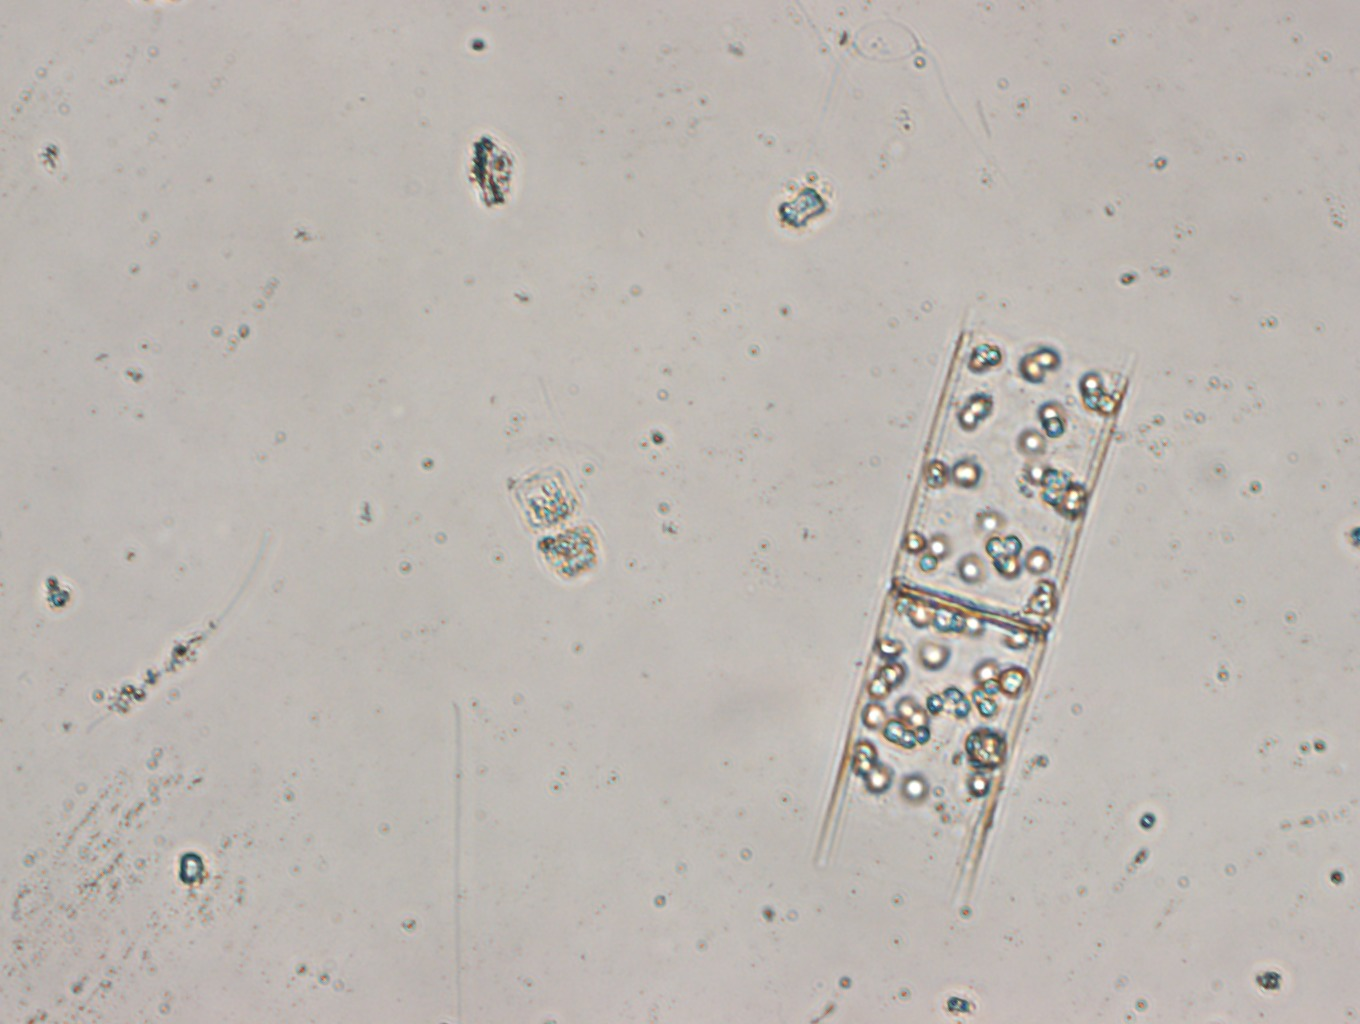guinardia flaccida: (807, 297, 1134, 918)
